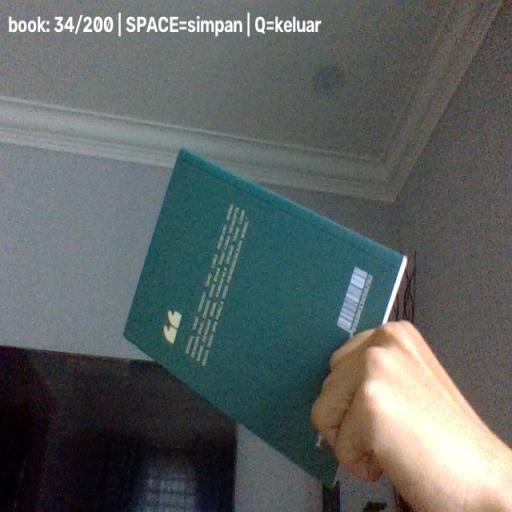Book: (122, 147, 407, 491)
